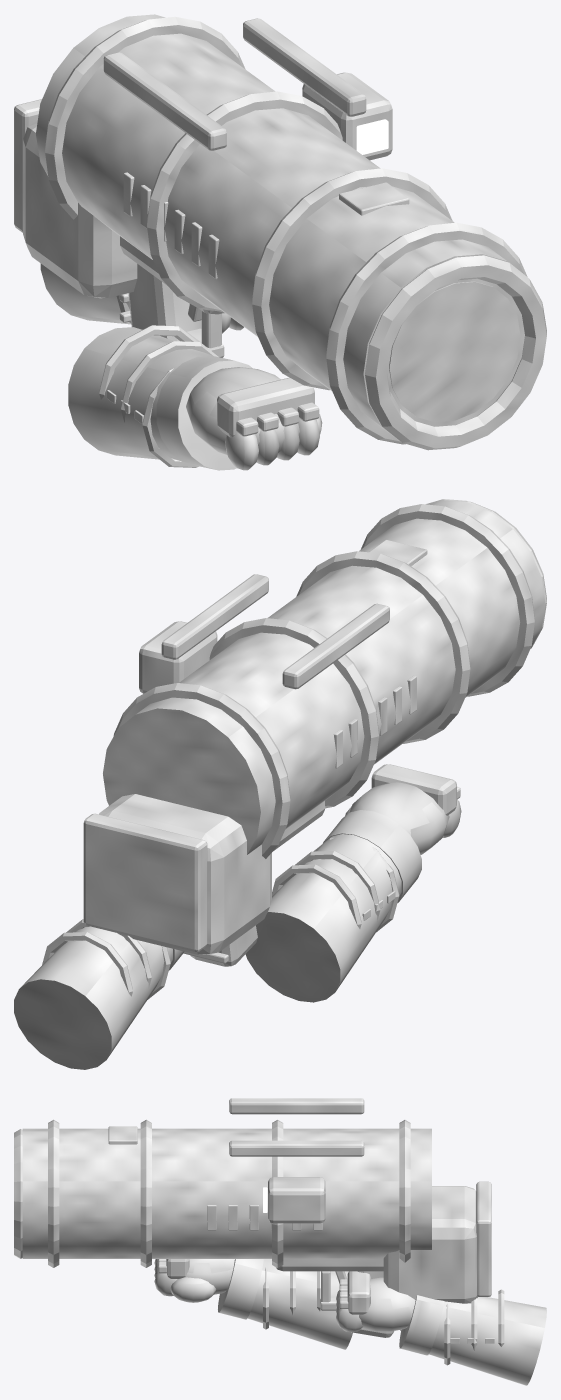
File: rocket_launcher.glb
The picture shows the model from 3 angles, top to bottom: view 1: azimuth 30°, elevation 25°; view 2: azimuth 150°, elevation 25°; view 3: azimuth 270°, elevation 25°; orthographic projection. The views are drawn at different scales.
Visible parts, largest first — view 1: tube, weapon; view 2: tube, weapon; view 3: tube, weapon.
Boxes of the visible parts, bbox=[...] form: tube: bbox=[36, 14, 546, 450]; weapon: bbox=[14, 18, 392, 470]; tube: bbox=[103, 499, 546, 858]; weapon: bbox=[14, 574, 461, 1069]; tube: bbox=[14, 1119, 431, 1267]; weapon: bbox=[154, 1098, 546, 1385].
Size of the model in its own units: 0.4825 by 0.6987 by 1.38.
9 materials, 9 textured.
